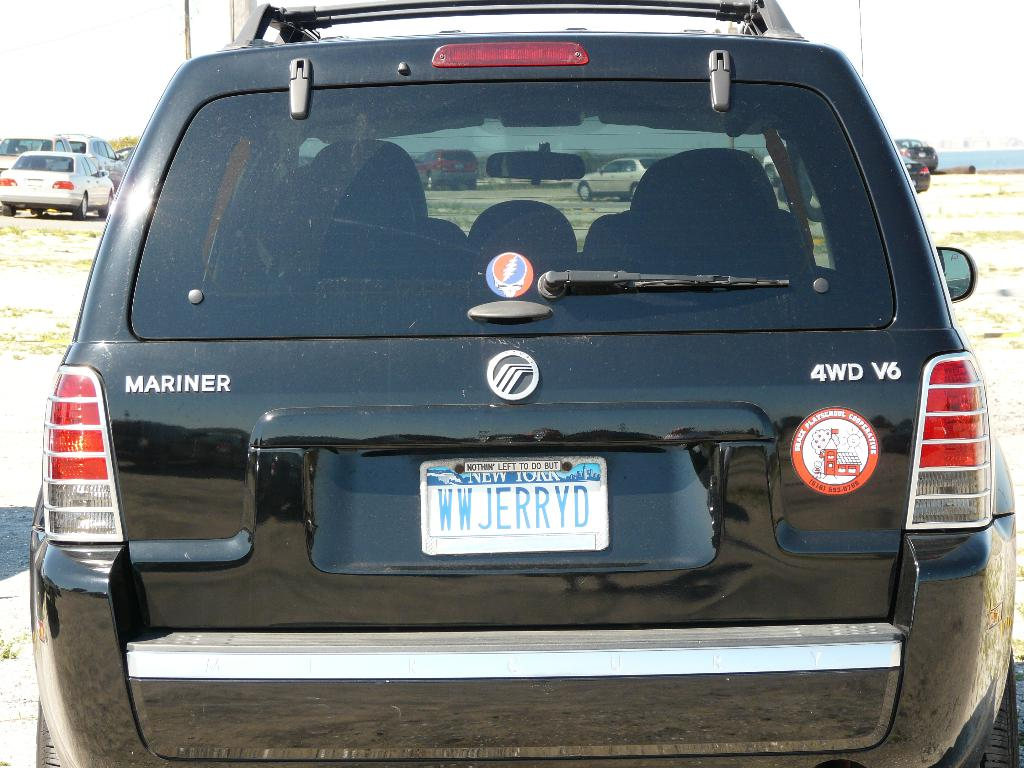license plate: (414, 462, 615, 557)
